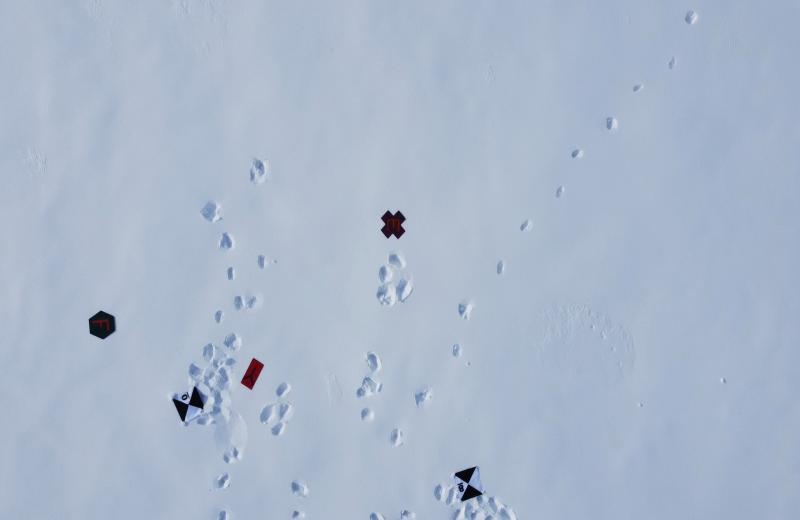Cross: (378, 206, 408, 241)
Hexagon: (84, 306, 118, 342)
Rectangle: (237, 351, 266, 391)
